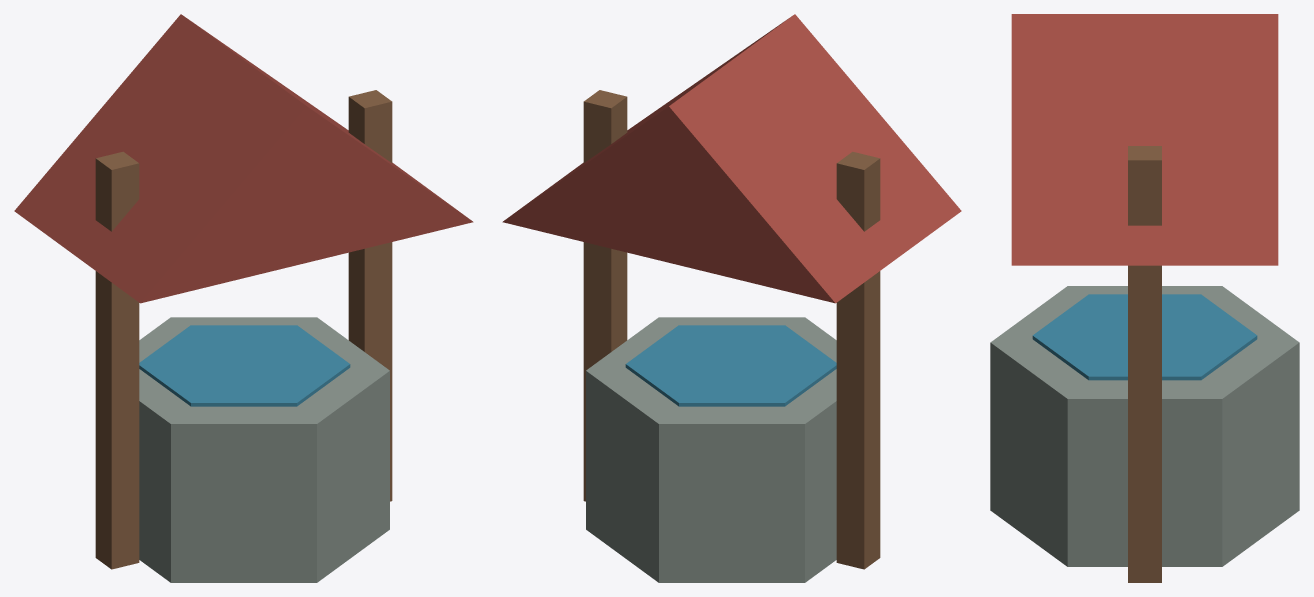
The model's file is prop_well.glb.
3 renders of one model, left to right at view 1: azimuth 30°, elevation 25°; view 2: azimuth 150°, elevation 25°; view 3: azimuth 270°, elevation 25°, orthographic. The views are drawn at different scales.
Visible parts, largest first — view 1: prop_well; view 2: prop_well; view 3: prop_well.
Part boxes in pixels (<box>): prop_well: <box>14,14,473,582</box>; prop_well: <box>502,14,961,582</box>; prop_well: <box>990,14,1299,582</box>.
Size of the model in its own units: 1.45 by 1.95 by 1.1.
Materials: 1 (1 with a texture image).
